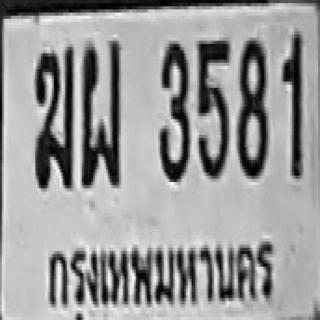A06: (34, 44, 74, 188)
A28: (80, 39, 121, 187)
N01: (281, 31, 302, 179)
N03: (157, 41, 189, 179)
N05: (196, 38, 230, 179)
N08: (237, 38, 267, 176)
P04: (40, 223, 282, 320)
